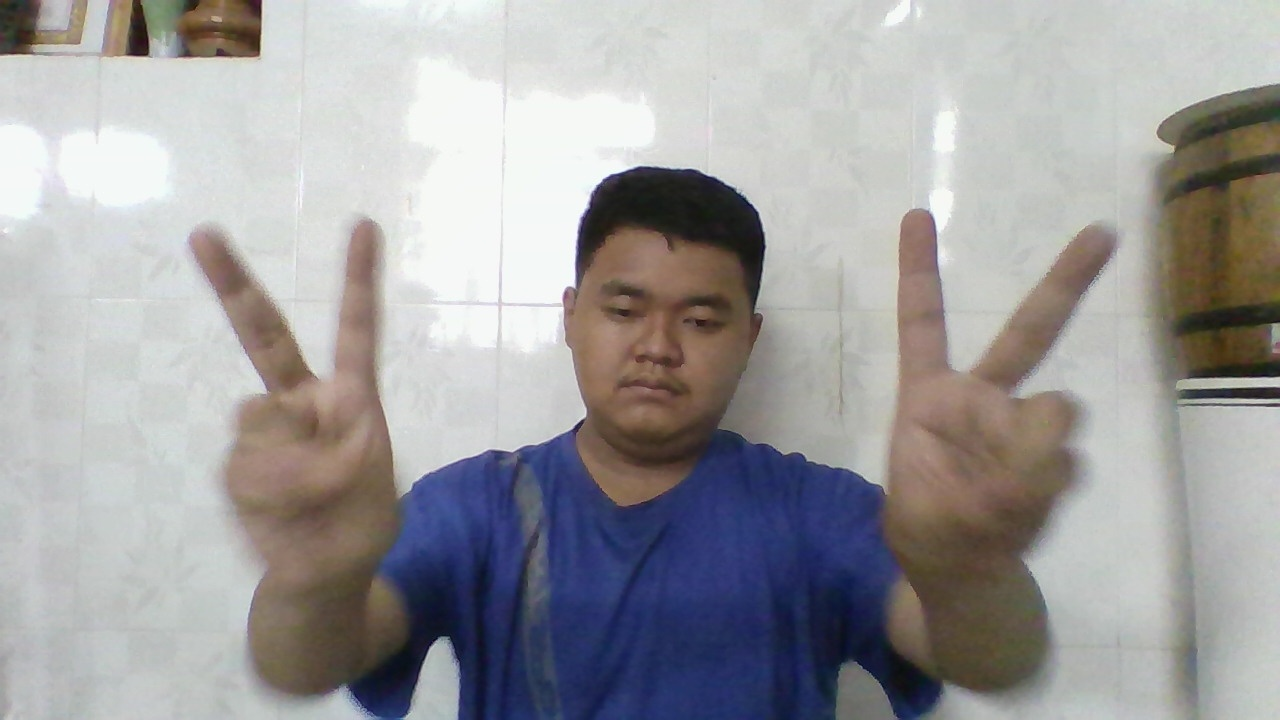V: (900, 205, 1109, 589), (190, 218, 392, 593)
